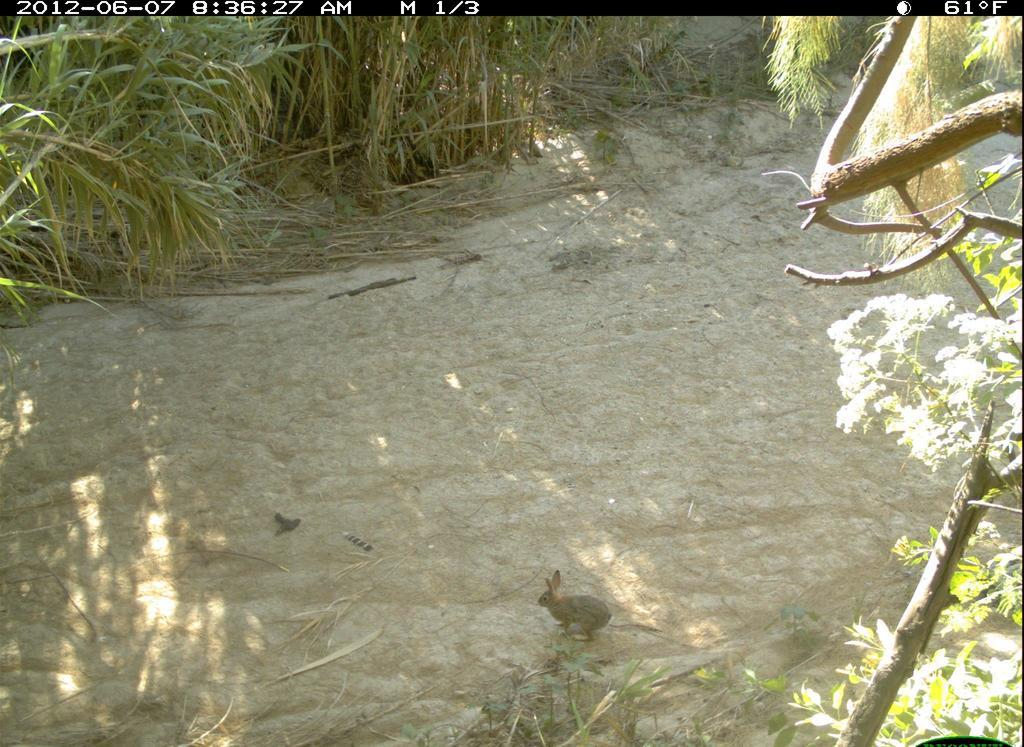rabbit: (521, 550, 644, 667)
